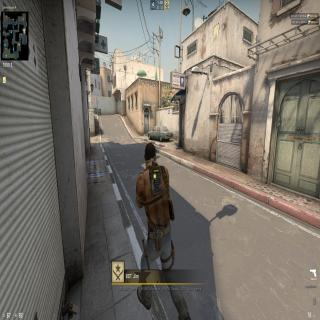T-Head: (144, 138, 158, 169)
